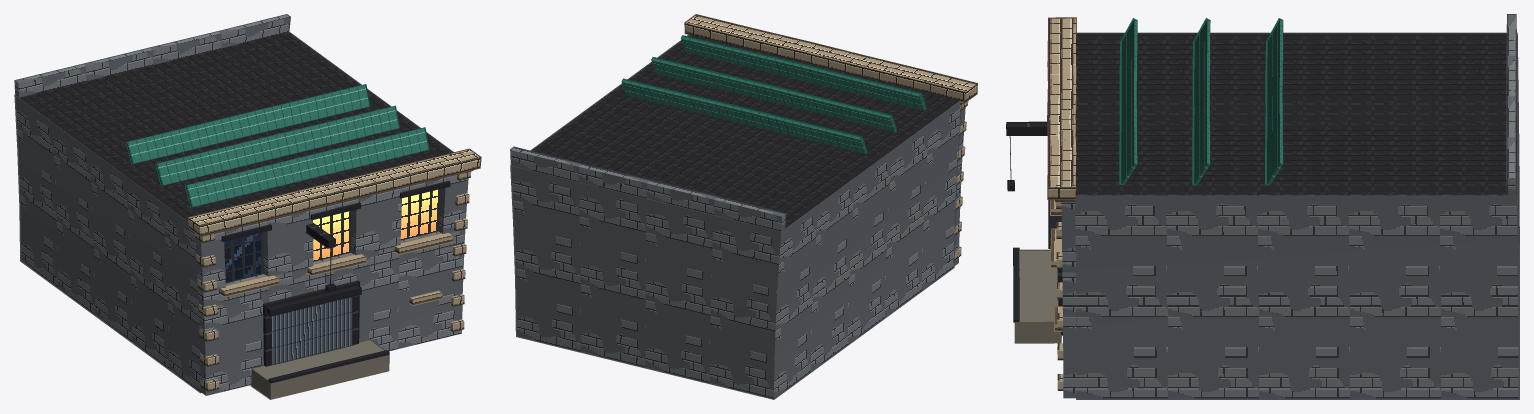
File: Haus_back_10.glb
The picture shows the model from 3 angles, left to right: view 1: azimuth 30°, elevation 25°; view 2: azimuth 150°, elevation 25°; view 3: azimuth 270°, elevation 25°; orthographic projection. The views are drawn at different scales.
Visible parts, largest first — view 1: Haus_back_10; view 2: Haus_back_10; view 3: Haus_back_10.
Part boxes in pixels (x1,y1,x2,y2): Haus_back_10: (14, 14, 481, 399); Haus_back_10: (510, 14, 977, 399); Haus_back_10: (1006, 14, 1519, 399).
Bounding box in the file's own units: 17.62 × 11.3 × 22.57.
Materials: 17 (10 with a texture image).
